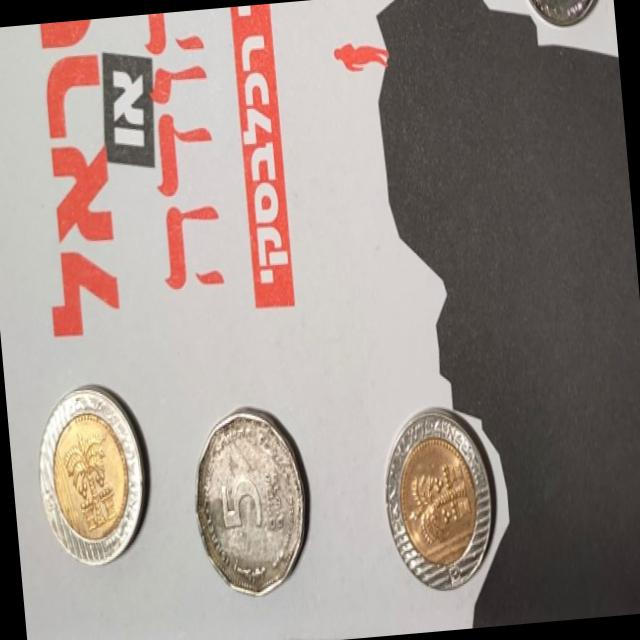10-shekel: (376, 397, 502, 598), (31, 380, 152, 576)
5-shekel: (181, 398, 320, 616)
